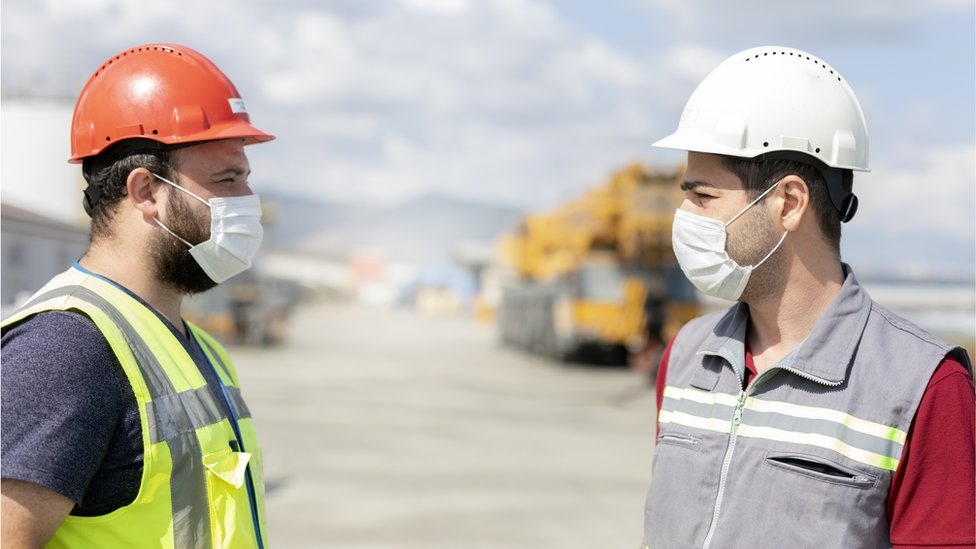Helmet: (649, 44, 880, 173), (67, 38, 279, 166)
Mask: (177, 188, 274, 294), (670, 196, 756, 301)
Safety_Jacket: (1, 260, 266, 549)
